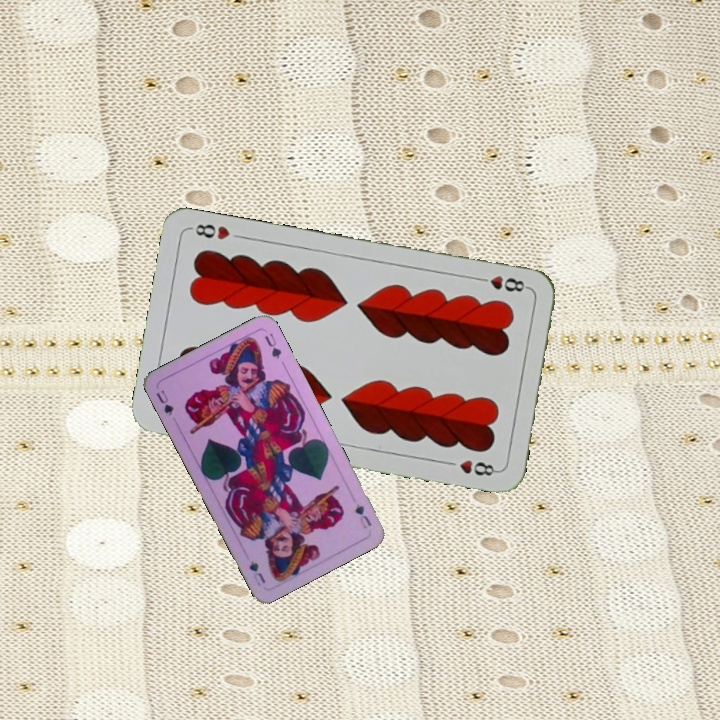GU: (152, 386, 176, 418), (351, 500, 374, 532)
H8: (472, 271, 531, 295)
